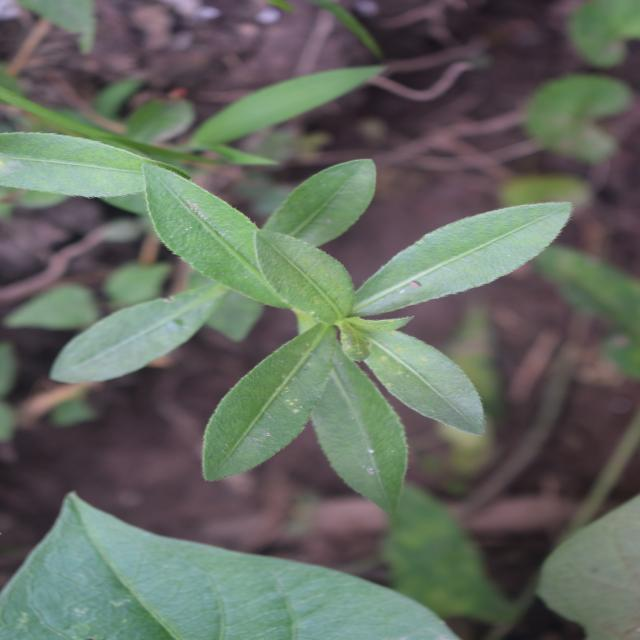Alligatorweed: (164, 76, 485, 554)
